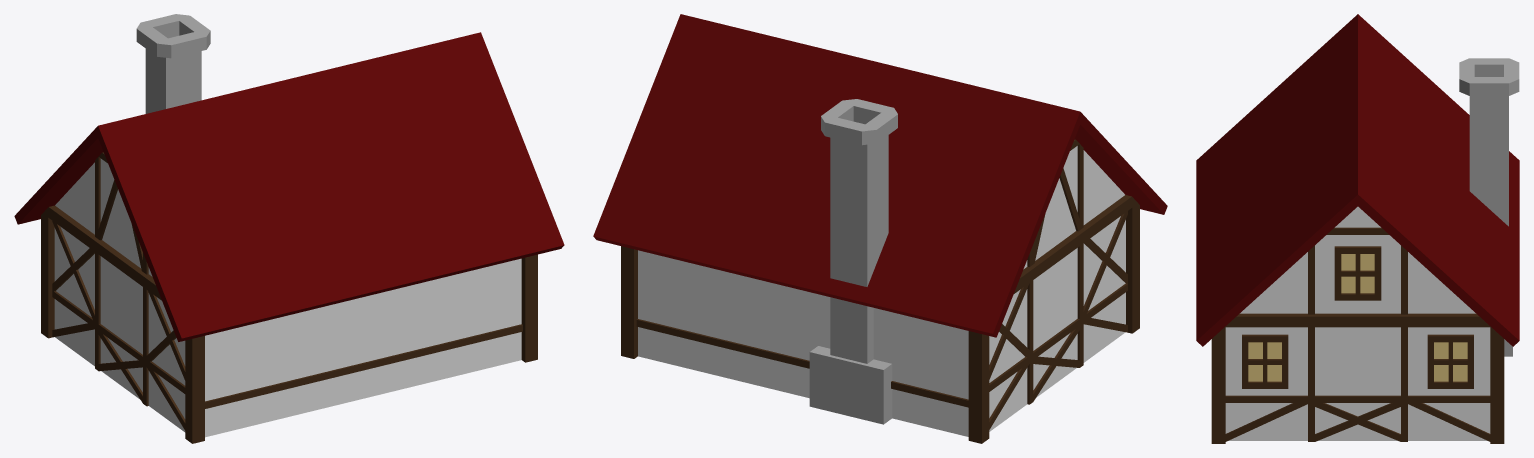
The model's file is House 1 Small.fbx.
3 views of the same model, side by side, from view 1: azimuth 30°, elevation 25°; view 2: azimuth 150°, elevation 25°; view 3: azimuth 270°, elevation 25° (orthographic). The views are drawn at different scales.
Parts seen in each view (by area): view 1: Small_House, Chimney_Small1; view 2: Small_House, Chimney_Small1; view 3: Small_House, Chimney_Small1.
Boxes of the visible parts, x1,y1,x2,y2 form: Small_House: (14,32,564,443); Chimney_Small1: (136,14,210,113); Small_House: (593,14,1167,443); Chimney_Small1: (809,99,897,424); Small_House: (1196,14,1519,443); Chimney_Small1: (1459,58,1519,356).
Bounding box in the file's own units: 9.2 × 6.4 × 6.96.
